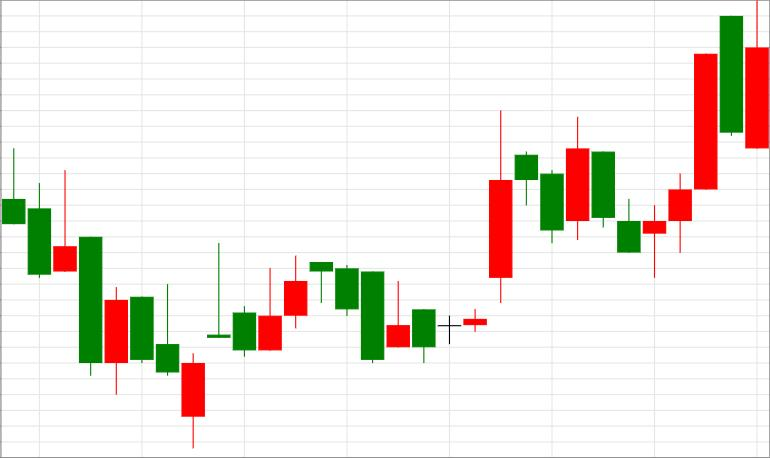evening_star_fall: (182, 243, 358, 448)
inverse_hammer_rise: (2, 147, 178, 394)
